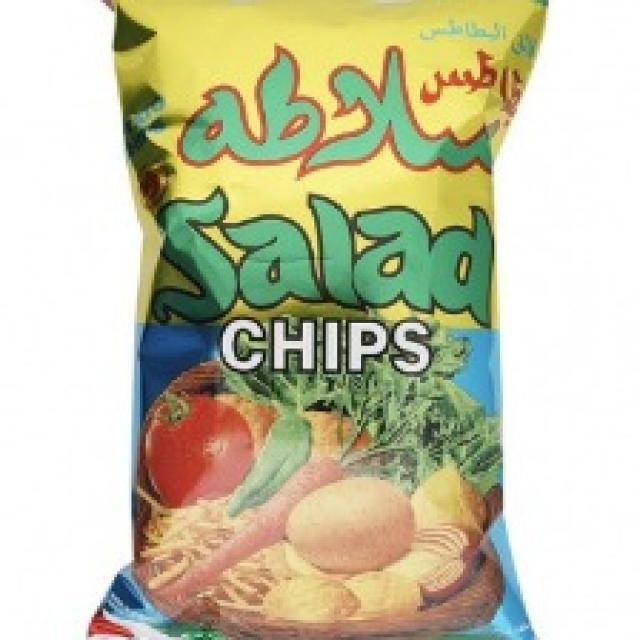plastic: (101, 1, 523, 640)
